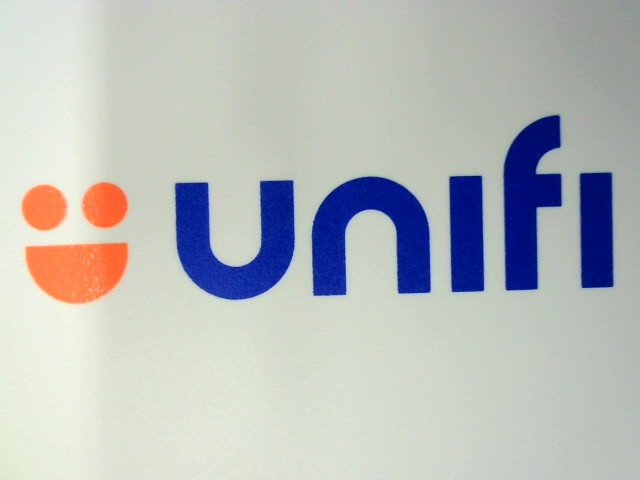BN_unifi: (26, 101, 621, 295)
